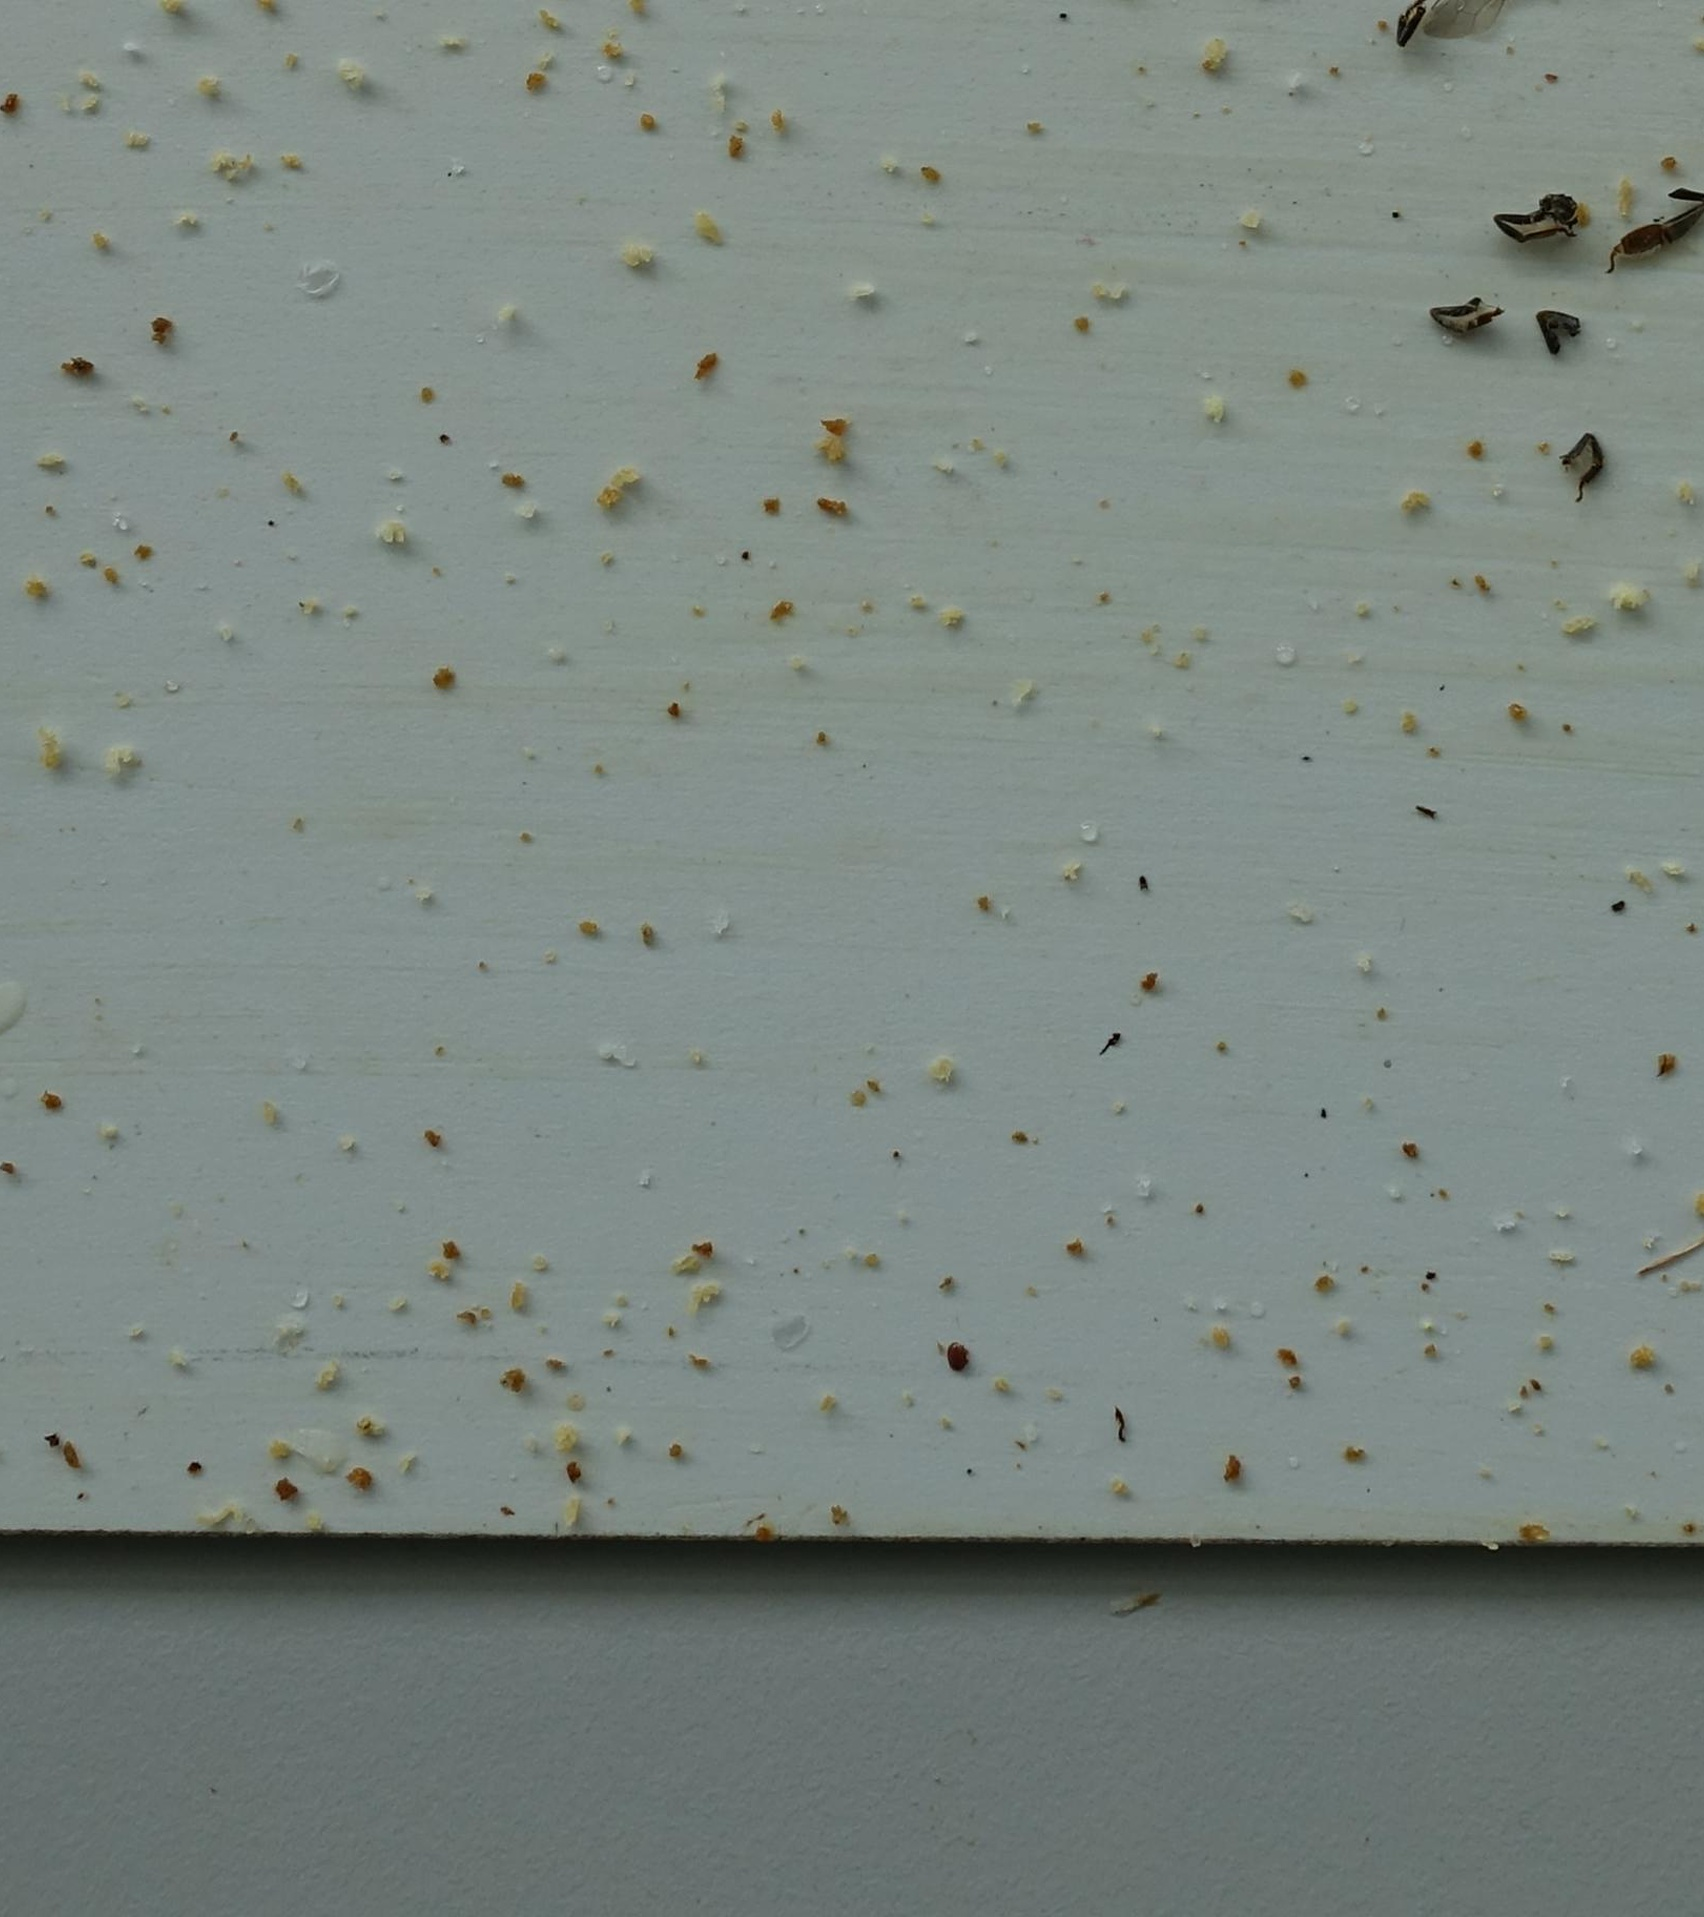Varroa: (947, 1343, 970, 1368)
